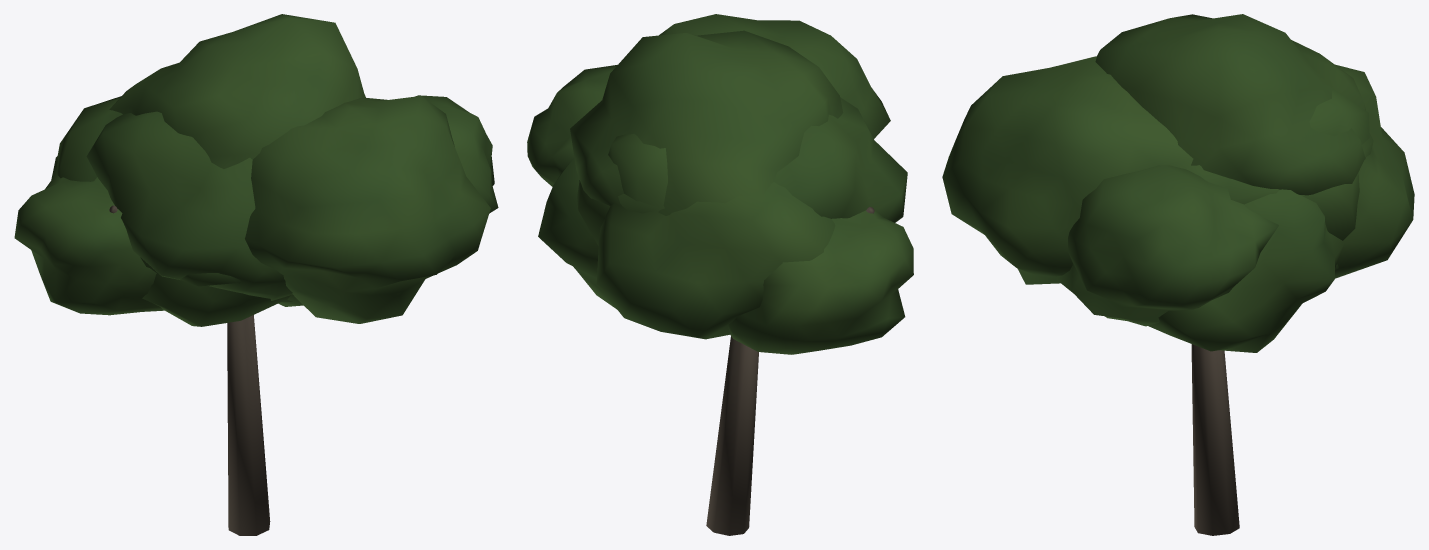
File: tree_oak_03.glb
3 renders of one model, left to right at view 1: azimuth 30°, elevation 25°; view 2: azimuth 150°, elevation 25°; view 3: azimuth 270°, elevation 25°, orthographic. The views are drawn at different scales.
Parts seen in each view (by area): view 1: tree_oak_03; view 2: tree_oak_03; view 3: tree_oak_03.
Part boxes in pixels (x1=…): tree_oak_03: x1=14, y1=14, x2=498, y2=535; tree_oak_03: x1=527, y1=14, x2=913, y2=535; tree_oak_03: x1=942, y1=14, x2=1414, y2=535.
Bounding box in the file's own units: 9.73 × 11.22 × 9.21.
